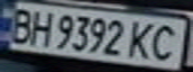2: (103, 16, 130, 57)
3: (69, 12, 90, 53)
9: (51, 10, 75, 51), (87, 15, 109, 55)
B: (3, 5, 39, 44)
C: (145, 21, 187, 62)
H: (24, 7, 57, 47)
K: (124, 18, 160, 61)
